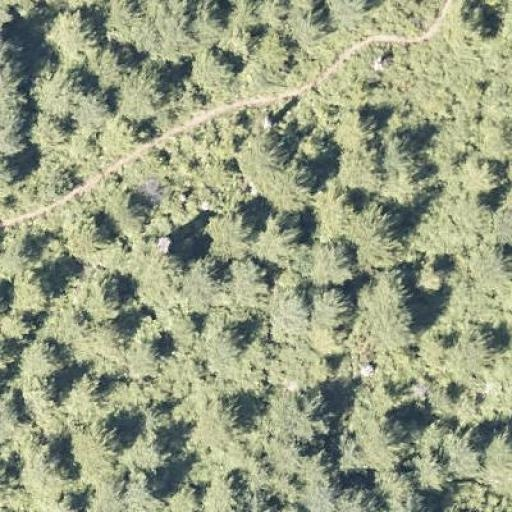tree-top: (229, 133, 318, 210), (358, 265, 418, 344), (105, 55, 170, 123), (74, 262, 131, 322), (9, 333, 70, 389), (26, 430, 86, 486), (0, 61, 34, 159), (47, 6, 99, 63), (304, 279, 358, 333), (58, 205, 114, 255), (348, 192, 396, 247), (11, 262, 59, 316), (456, 0, 504, 49), (458, 315, 511, 358), (87, 411, 134, 458), (290, 390, 336, 437), (122, 469, 170, 512), (367, 419, 407, 470), (383, 132, 431, 174), (190, 0, 234, 41), (302, 448, 344, 490), (384, 470, 426, 512), (192, 48, 235, 89), (288, 4, 334, 42), (111, 189, 147, 237), (445, 436, 488, 475), (188, 258, 226, 302), (71, 90, 106, 137), (269, 281, 310, 320), (134, 335, 168, 378), (209, 396, 248, 433), (461, 157, 497, 195), (144, 418, 178, 457), (49, 66, 78, 111), (215, 324, 247, 362), (237, 257, 262, 298), (352, 111, 382, 138)
